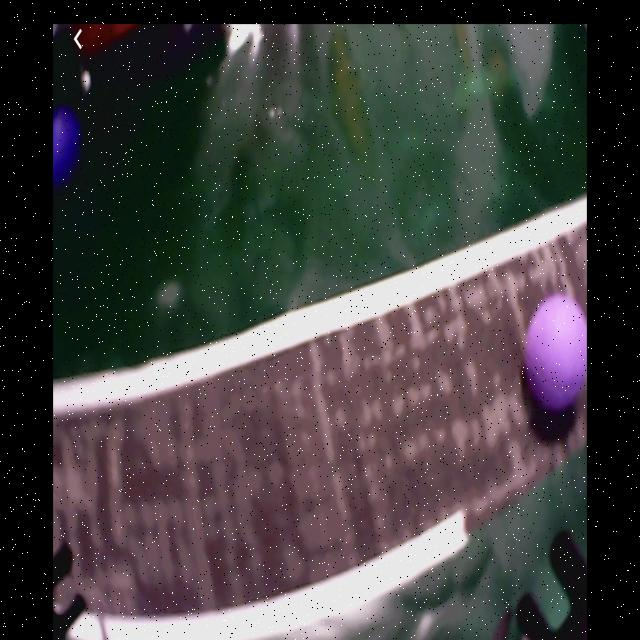ball: (523, 292, 588, 418), (53, 111, 80, 191)
